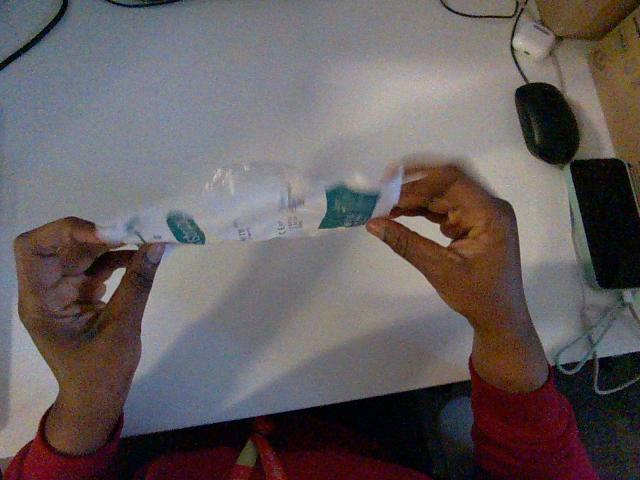gallipot: (99, 163, 402, 244)
